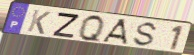1: (170, 25, 185, 52)
A: (100, 18, 129, 46)
K: (26, 9, 53, 36)
Q: (78, 14, 106, 45)
S: (131, 21, 160, 48)
Z: (51, 11, 81, 39)
